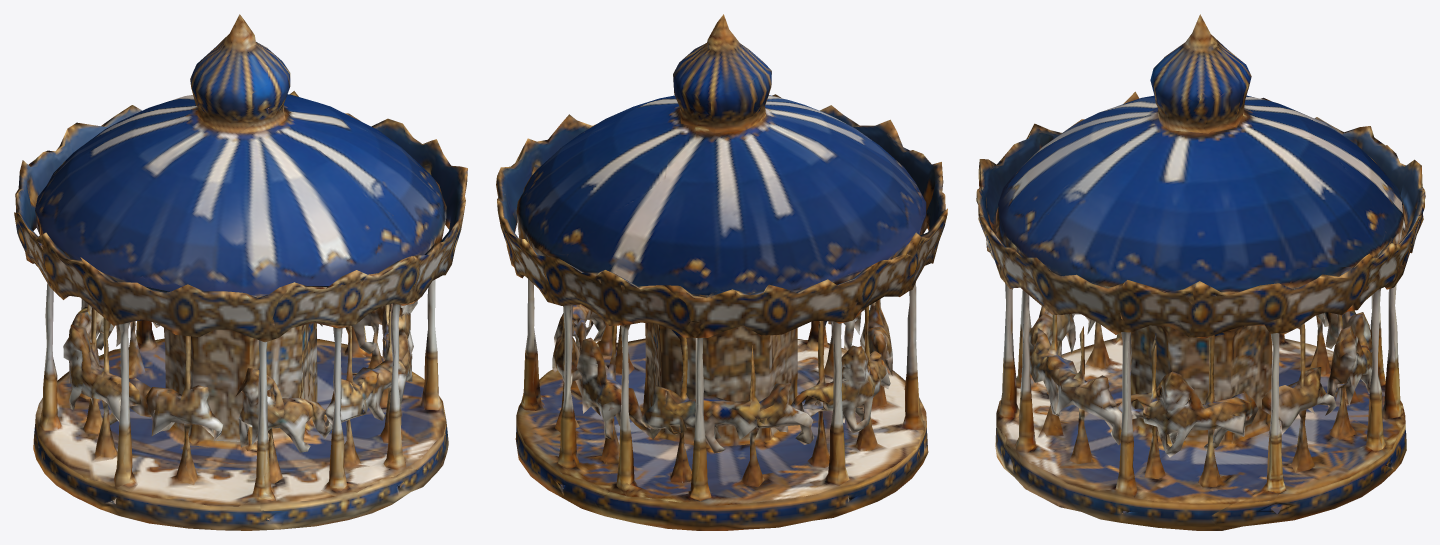
The model's file is 롯데_회전목마.glb.
The picture shows the model from 3 angles, left to right: view 1: azimuth 30°, elevation 25°; view 2: azimuth 150°, elevation 25°; view 3: azimuth 270°, elevation 25°; orthographic projection.
Parts seen in each view (by area): view 1: texture_mapping; view 2: texture_mapping; view 3: texture_mapping.
Part boxes in pixels (x1,y1,x2,y2): texture_mapping: (14,14,467,530); texture_mapping: (496,14,947,530); texture_mapping: (976,14,1425,530).
Size of the model in its own units: 0.9385 by 0.9847 by 0.9328.
Materials: 1 (1 with a texture image).
